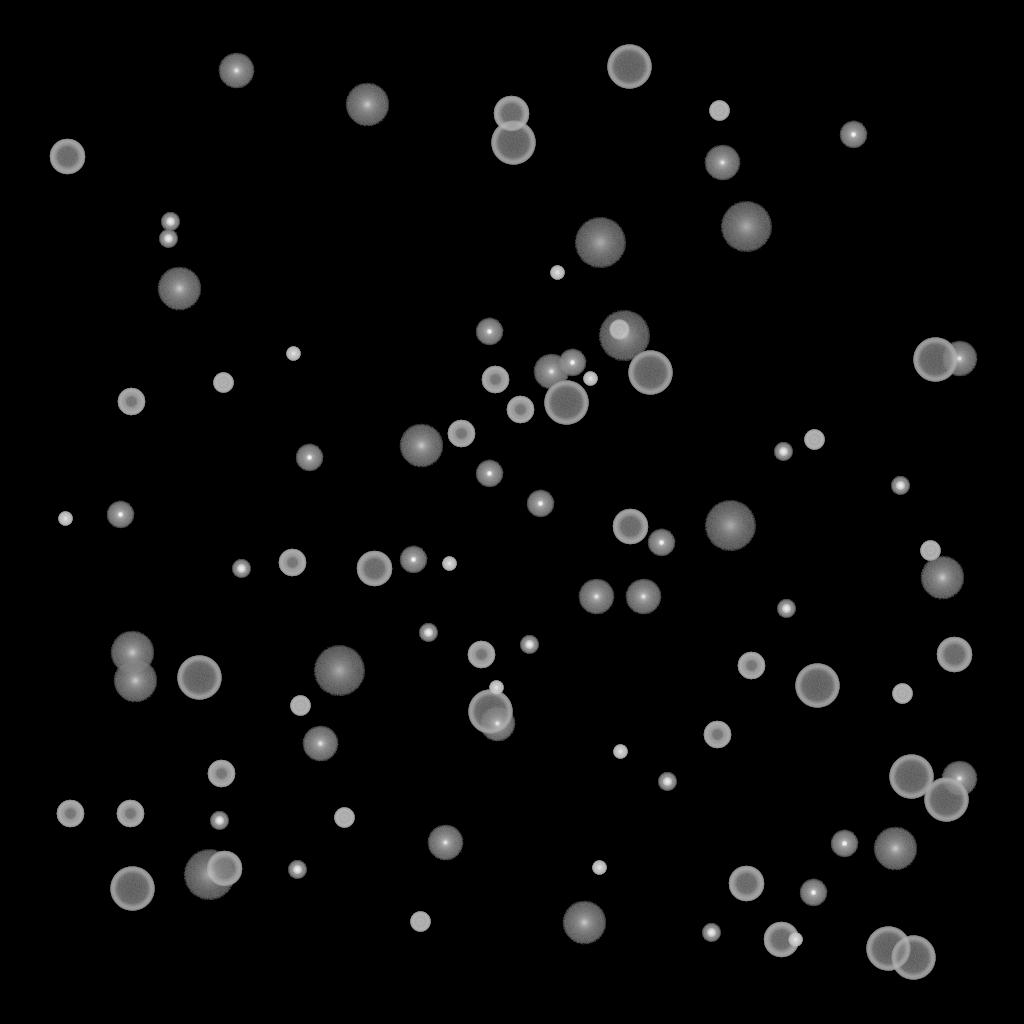depth:-10: (830, 830, 858, 858), (106, 501, 134, 529), (839, 121, 867, 149), (399, 546, 427, 574), (558, 349, 586, 377), (799, 879, 827, 907), (647, 529, 675, 557), (475, 318, 503, 346), (526, 490, 554, 518), (295, 444, 323, 472), (475, 460, 503, 488)
depth:-20: (419, 624, 437, 642), (774, 443, 792, 461), (210, 812, 228, 830), (288, 861, 306, 879), (520, 636, 538, 654), (159, 230, 177, 248), (777, 600, 795, 618), (702, 924, 720, 942), (891, 477, 909, 495), (658, 773, 676, 791), (232, 560, 250, 578), (161, 213, 179, 231)
depth:-30: (442, 557, 456, 571), (788, 933, 802, 947), (583, 372, 597, 386), (286, 347, 300, 361), (489, 681, 503, 695), (58, 512, 72, 526), (550, 266, 564, 280), (592, 861, 606, 875), (613, 745, 627, 759)
depth:-40: (609, 320, 629, 340), (290, 696, 310, 716), (410, 912, 430, 932), (804, 430, 824, 450), (709, 101, 729, 121), (892, 684, 912, 704), (920, 541, 940, 561), (334, 808, 354, 828), (213, 373, 233, 393)
depth:-50: (278, 549, 306, 577), (116, 800, 144, 828), (447, 420, 475, 448), (117, 388, 145, 416), (737, 652, 765, 680), (481, 366, 509, 394), (207, 760, 235, 788), (703, 721, 731, 749), (506, 396, 534, 424), (467, 641, 495, 669), (56, 800, 84, 828)
depth:-60: (728, 866, 764, 902), (612, 509, 648, 545), (206, 851, 242, 887), (493, 96, 529, 132), (763, 922, 799, 958), (356, 551, 392, 587), (49, 139, 85, 175), (936, 637, 972, 673)
depth:-70: (891, 936, 935, 980), (913, 338, 957, 382), (491, 121, 535, 165), (628, 351, 672, 395), (924, 778, 968, 822), (468, 690, 512, 734), (544, 381, 588, 425), (866, 927, 910, 971), (177, 656, 221, 700), (607, 45, 651, 89), (110, 867, 154, 911), (795, 664, 839, 708), (889, 755, 933, 799)
depth:0: (578, 579, 614, 615), (218, 53, 254, 89), (302, 726, 338, 762), (479, 706, 515, 742), (427, 825, 463, 861), (941, 761, 977, 797), (941, 341, 977, 377), (625, 579, 661, 615), (704, 145, 740, 181), (533, 354, 569, 390)
depth:10: (113, 659, 157, 703), (399, 424, 443, 468), (345, 83, 389, 127), (110, 631, 154, 675), (873, 827, 917, 871), (920, 556, 964, 600), (157, 267, 201, 311), (562, 901, 606, 945)
depth:20: (704, 501, 756, 551), (313, 646, 365, 696), (574, 218, 626, 268), (720, 202, 772, 252), (598, 311, 650, 361), (183, 850, 235, 900)
